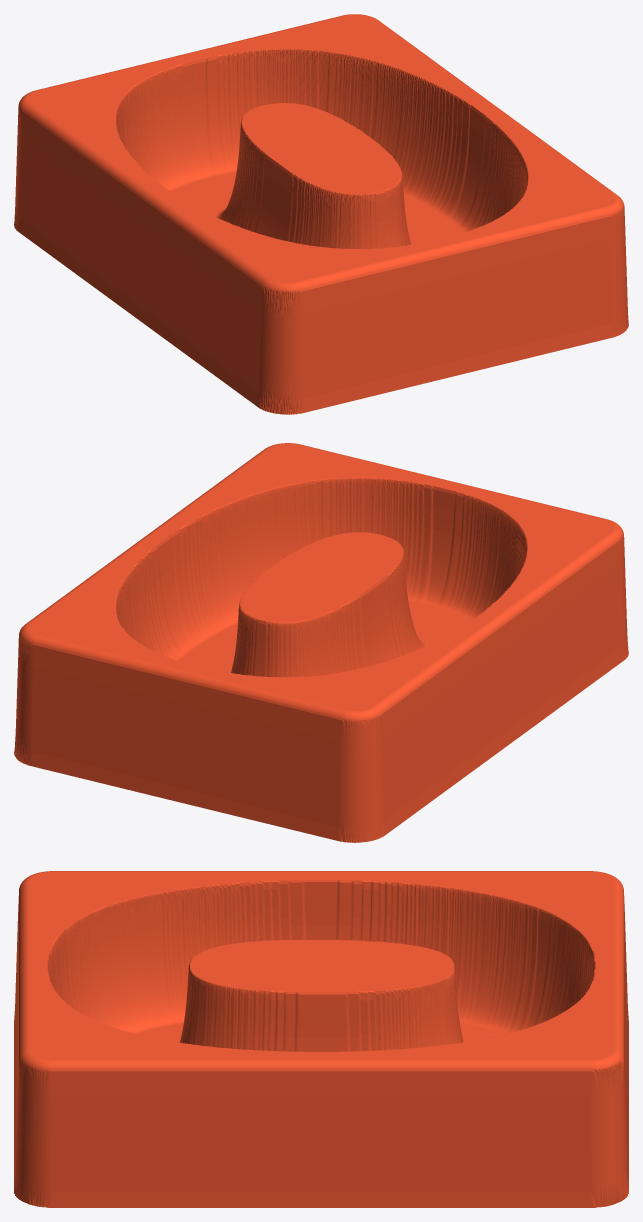
File: mold.glb
The picture shows the model from 3 angles, top to bottom: view 1: azimuth 30°, elevation 25°; view 2: azimuth 150°, elevation 25°; view 3: azimuth 270°, elevation 25°; orthographic projection. The views are drawn at different scales.
Visible parts, largest first — view 1: geometry_0; view 2: geometry_0; view 3: geometry_0.
Boxes of the visible parts, x1,y1,x2,y2 form: geometry_0: (14, 14, 628, 414); geometry_0: (14, 443, 628, 842); geometry_0: (14, 871, 628, 1207).
Bounding box in the file's own units: 0.1108 × 0.0365 × 0.1435.
